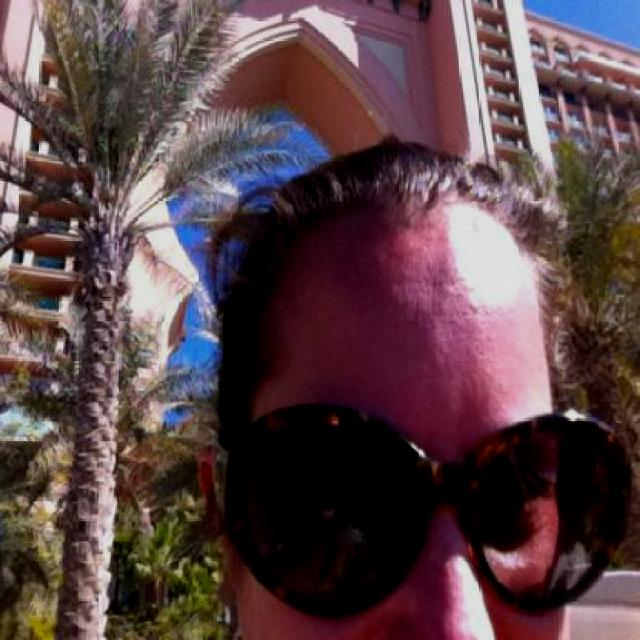glasses: (200, 378, 640, 608)
head_nohelmet: (213, 129, 578, 293)
